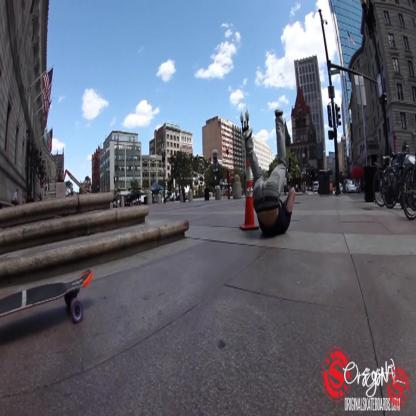Fall_Down: (242, 107, 295, 240)
